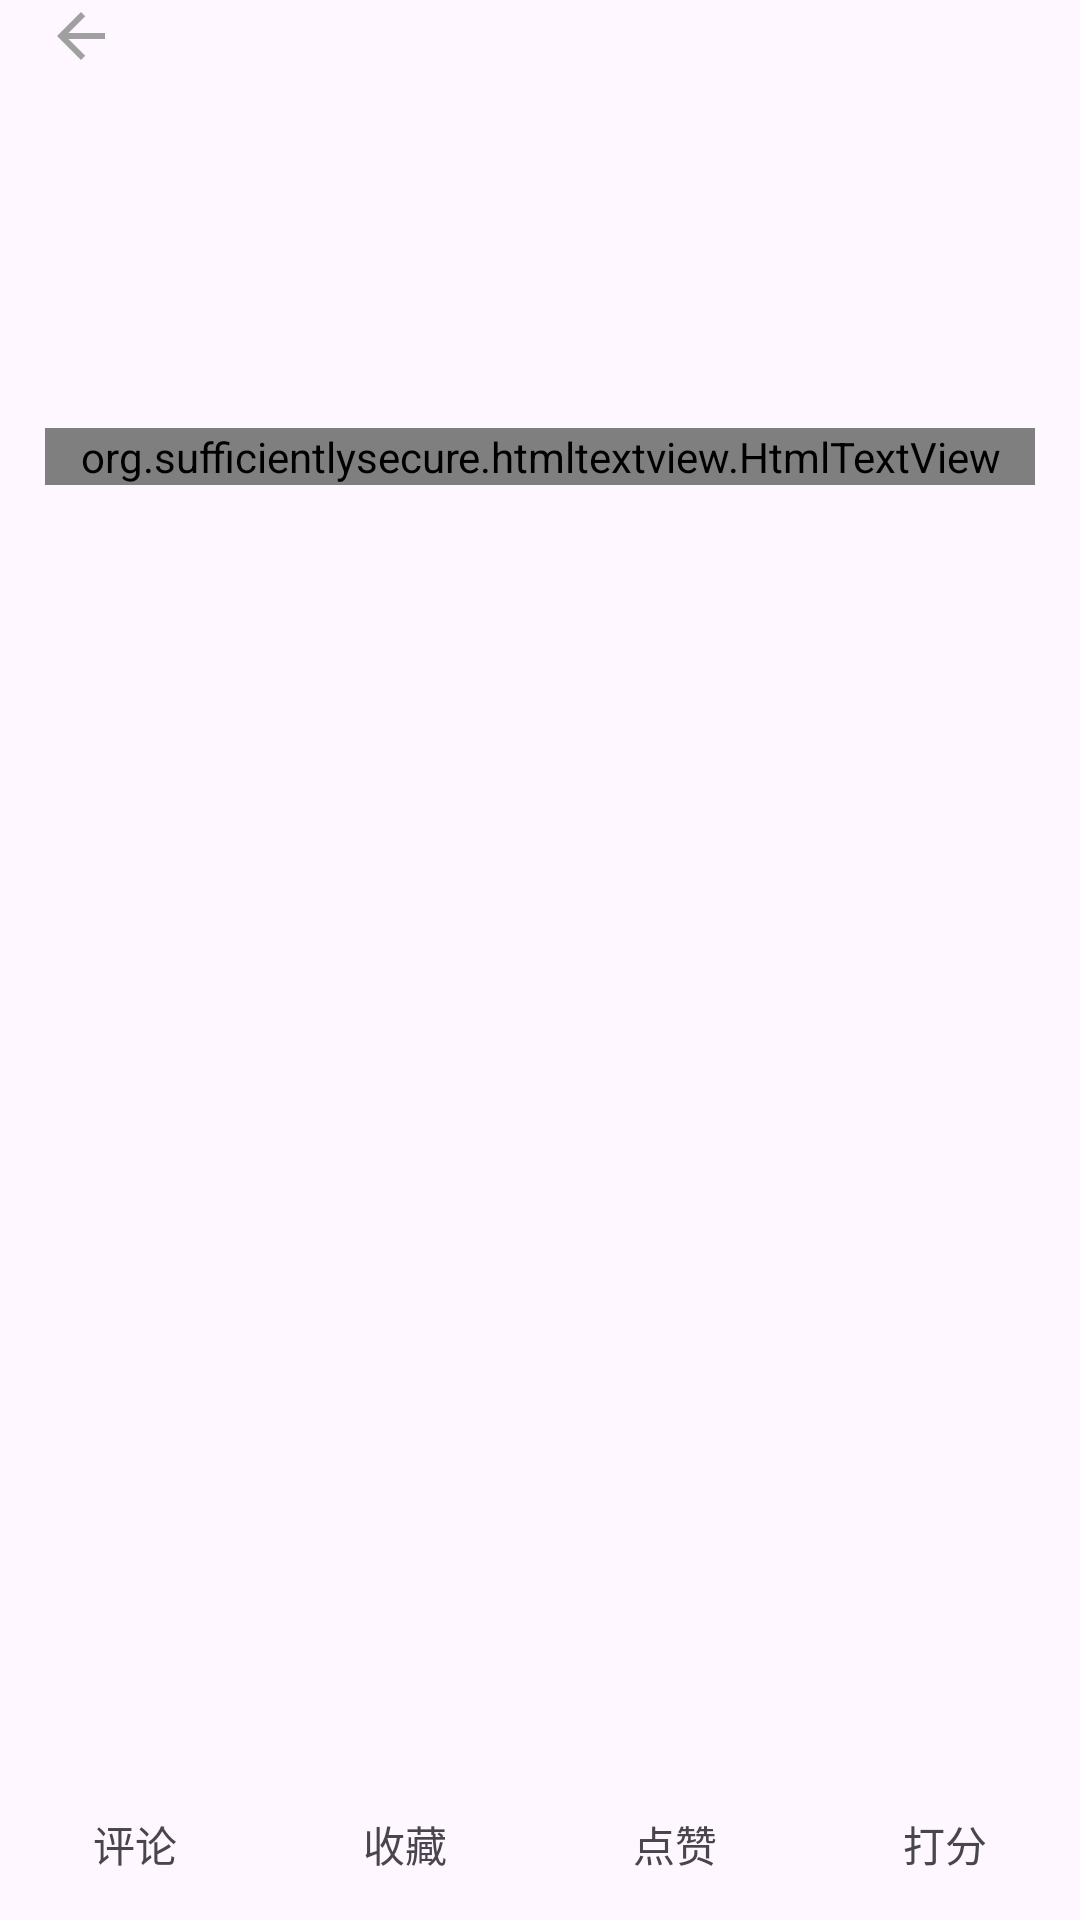

Icon bounding boxes for this 1080 × 1920 phone screenshot, format (x1, y1, x2, y2):
arrow back: (57, 12, 105, 60)
